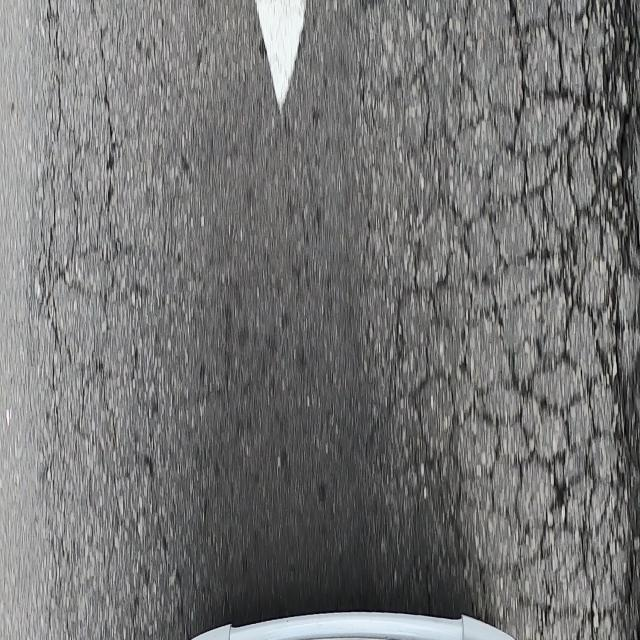Retak-Buaya: (364, 0, 640, 640), (36, 0, 142, 439)
